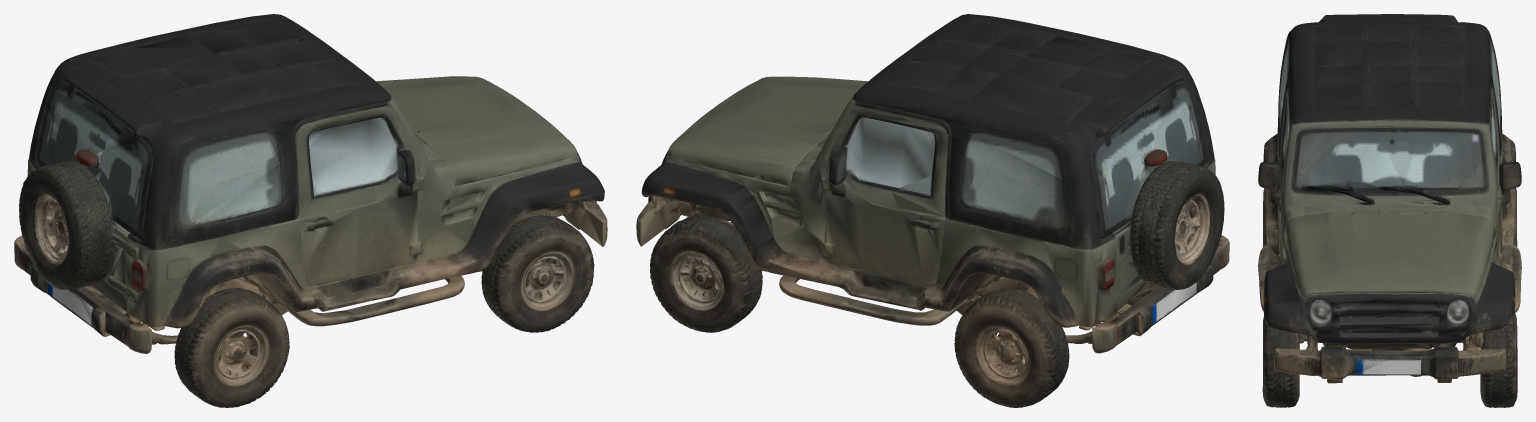
Rendered from trilheiro__01a1698c.glb.
3 views of the same model, side by side, from view 1: azimuth 30°, elevation 25°; view 2: azimuth 150°, elevation 25°; view 3: azimuth 270°, elevation 25° (orthographic). The views are drawn at different scales.
Visible parts, largest first — view 1: trilheiro__01a1698c; view 2: trilheiro__01a1698c; view 3: trilheiro__01a1698c.
Boxes of the visible parts, x1,y1,x2,y2 form: trilheiro__01a1698c: (14, 14, 607, 407); trilheiro__01a1698c: (636, 14, 1229, 407); trilheiro__01a1698c: (1258, 14, 1521, 407).
Bounding box in the file's own units: 3.95 × 2.04 × 2.06.
Materials: 1 (1 with a texture image).
